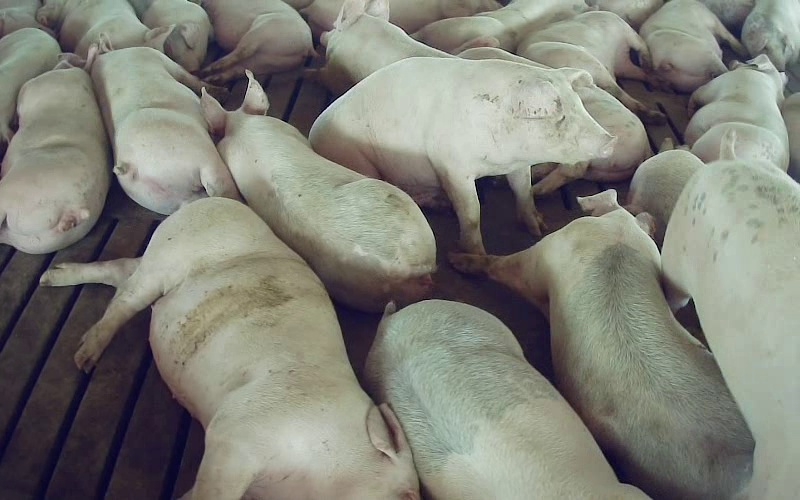pig: (41, 200, 417, 499), (451, 190, 752, 499), (309, 57, 614, 253), (202, 70, 435, 311), (365, 300, 647, 499), (662, 132, 799, 499), (89, 47, 239, 214), (0, 68, 110, 253), (517, 11, 663, 123), (318, 0, 449, 95), (685, 55, 788, 169), (640, 0, 745, 91), (201, 0, 313, 83), (37, 0, 173, 58), (0, 28, 60, 155), (129, 0, 212, 71), (741, 0, 799, 70)
